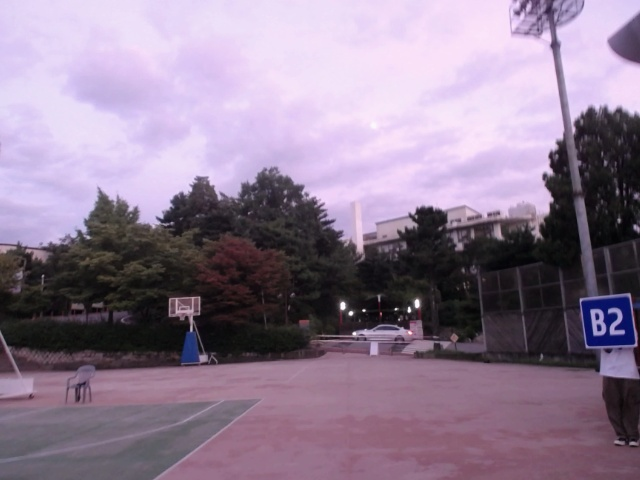delivery_b2: (578, 294, 638, 350)
